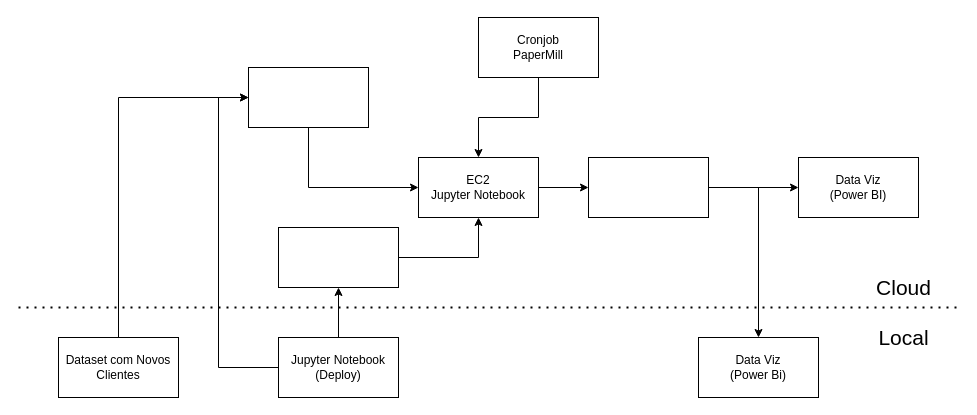
The diagram is 977 pixels wide and 415 high, and some of its shapes have lost their labels. Each missing label, with the centre of its shape:
Banco de Dados (Postgres): (648,187)
GitHub: (338,257)
S3 (Simple Storage Service): (308,97)
